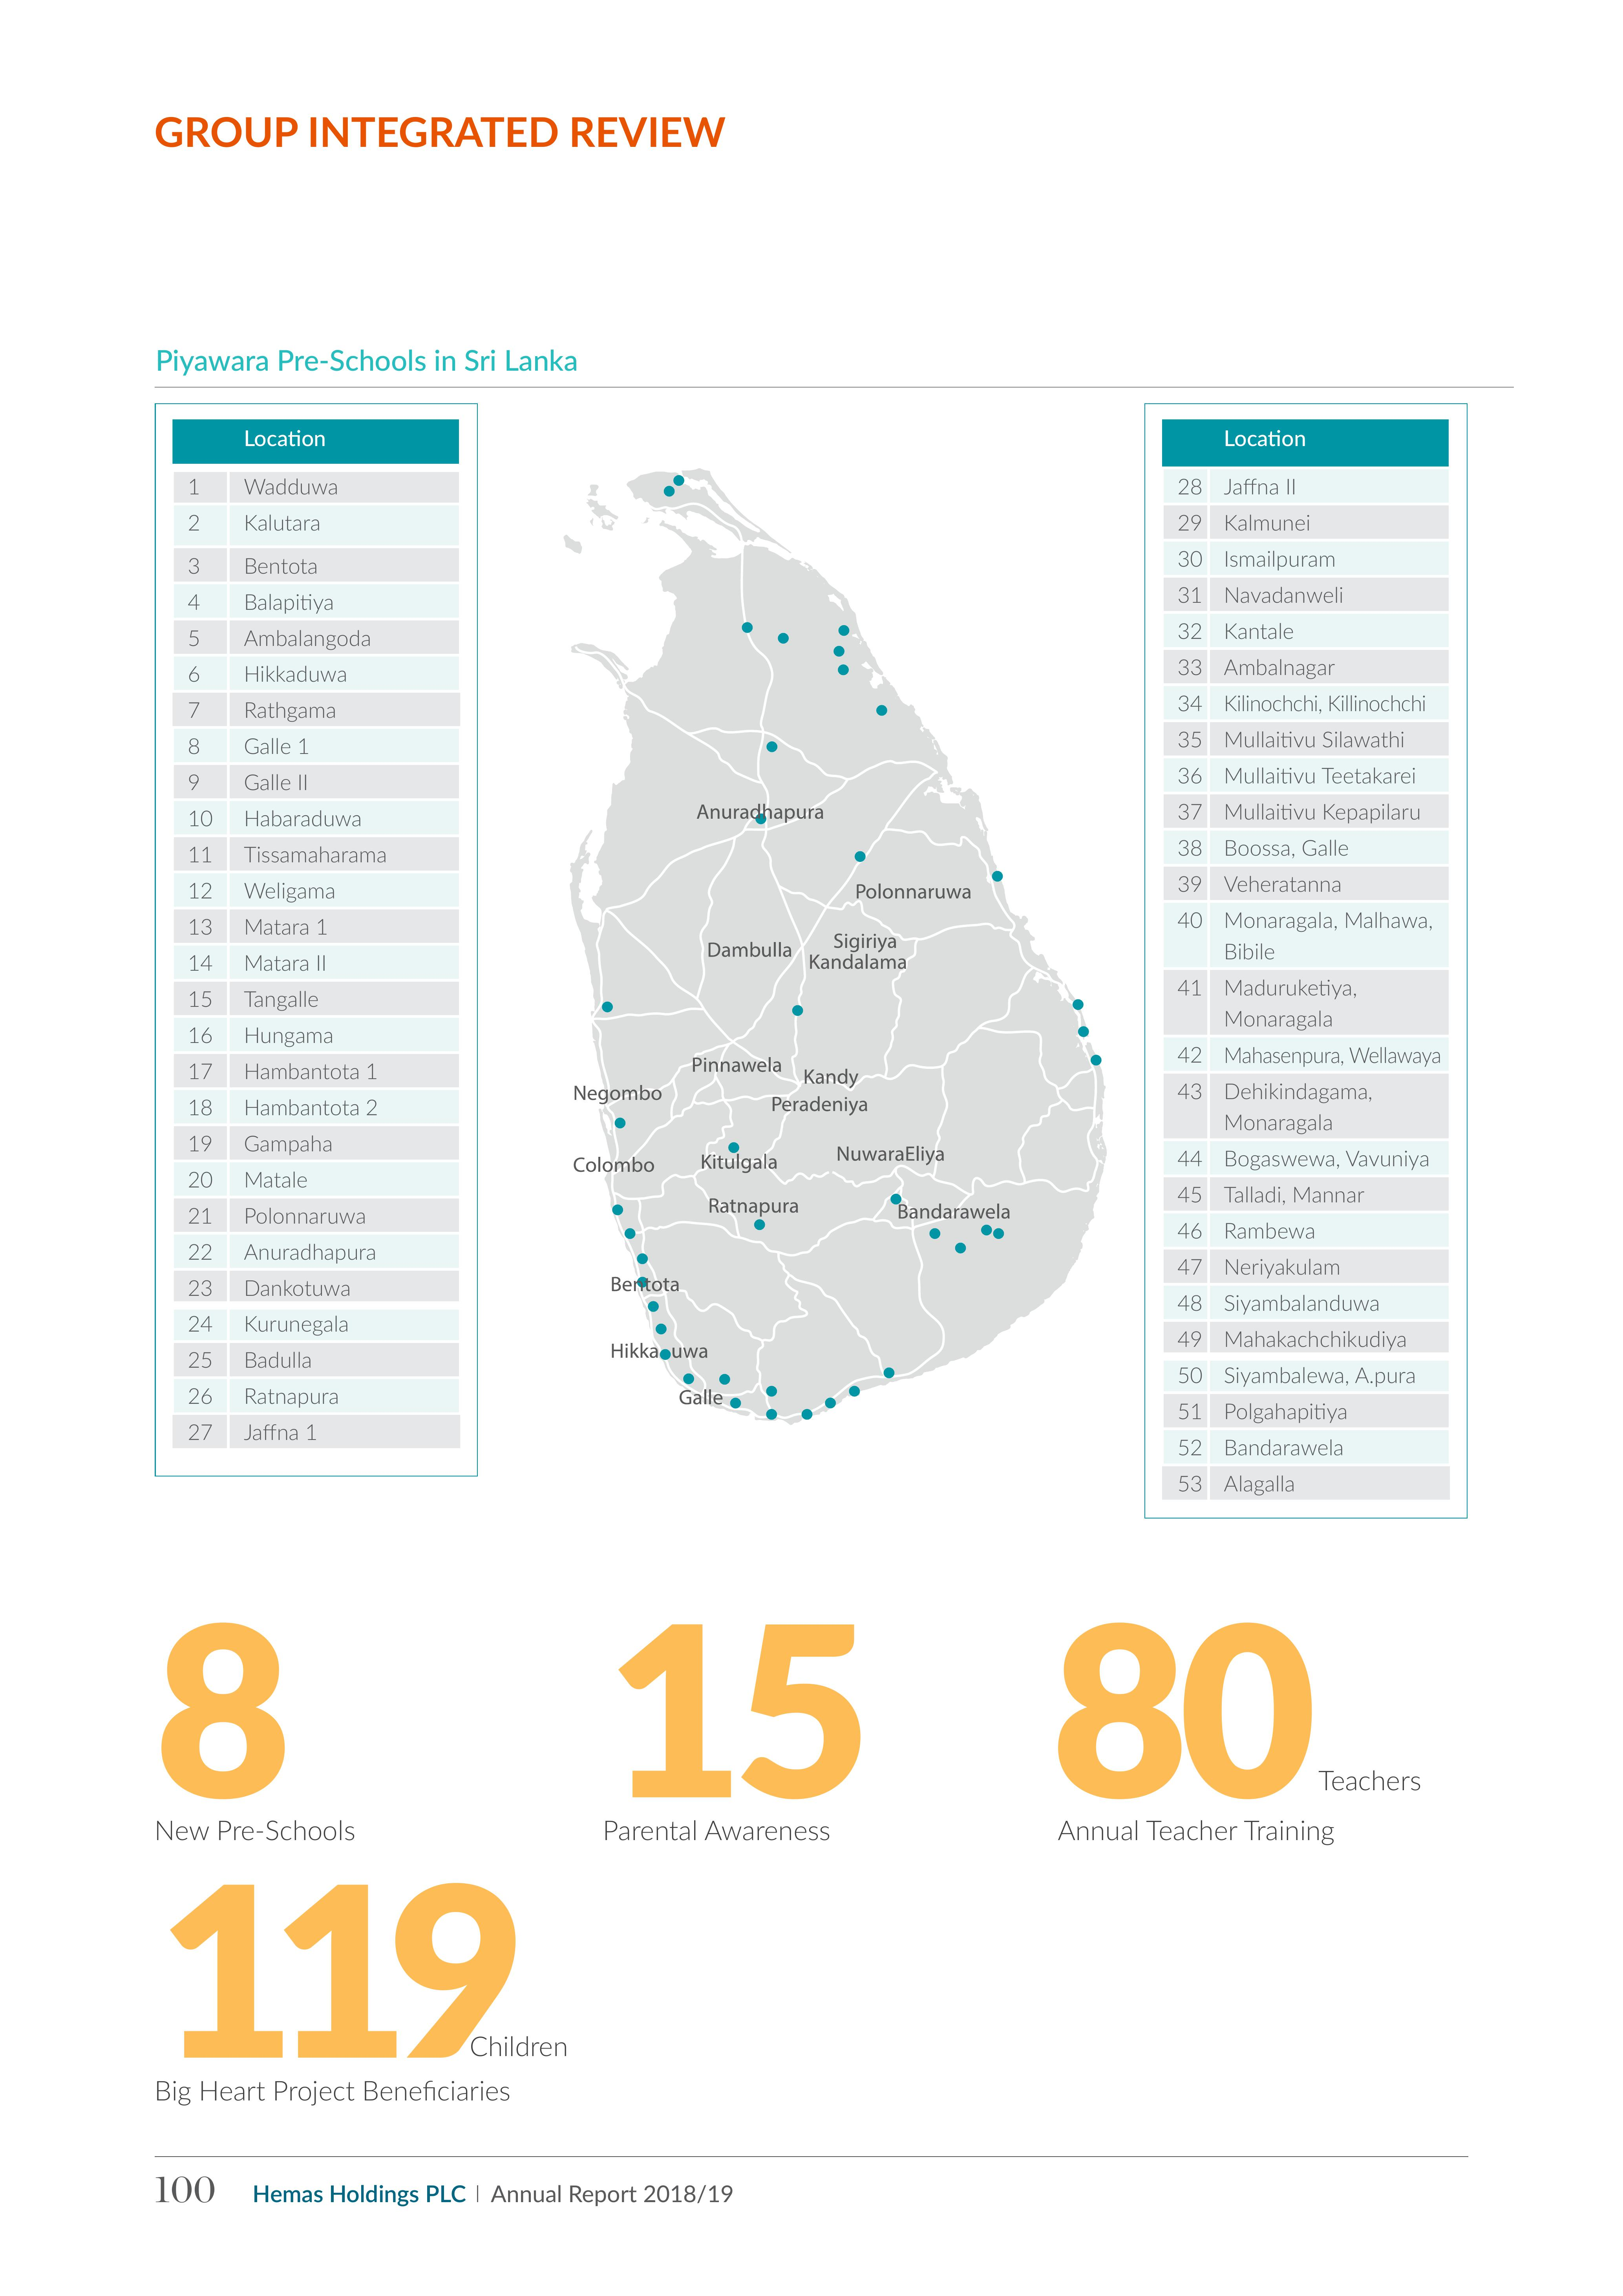table: (1140, 397, 1475, 1525), (144, 395, 485, 1484)
